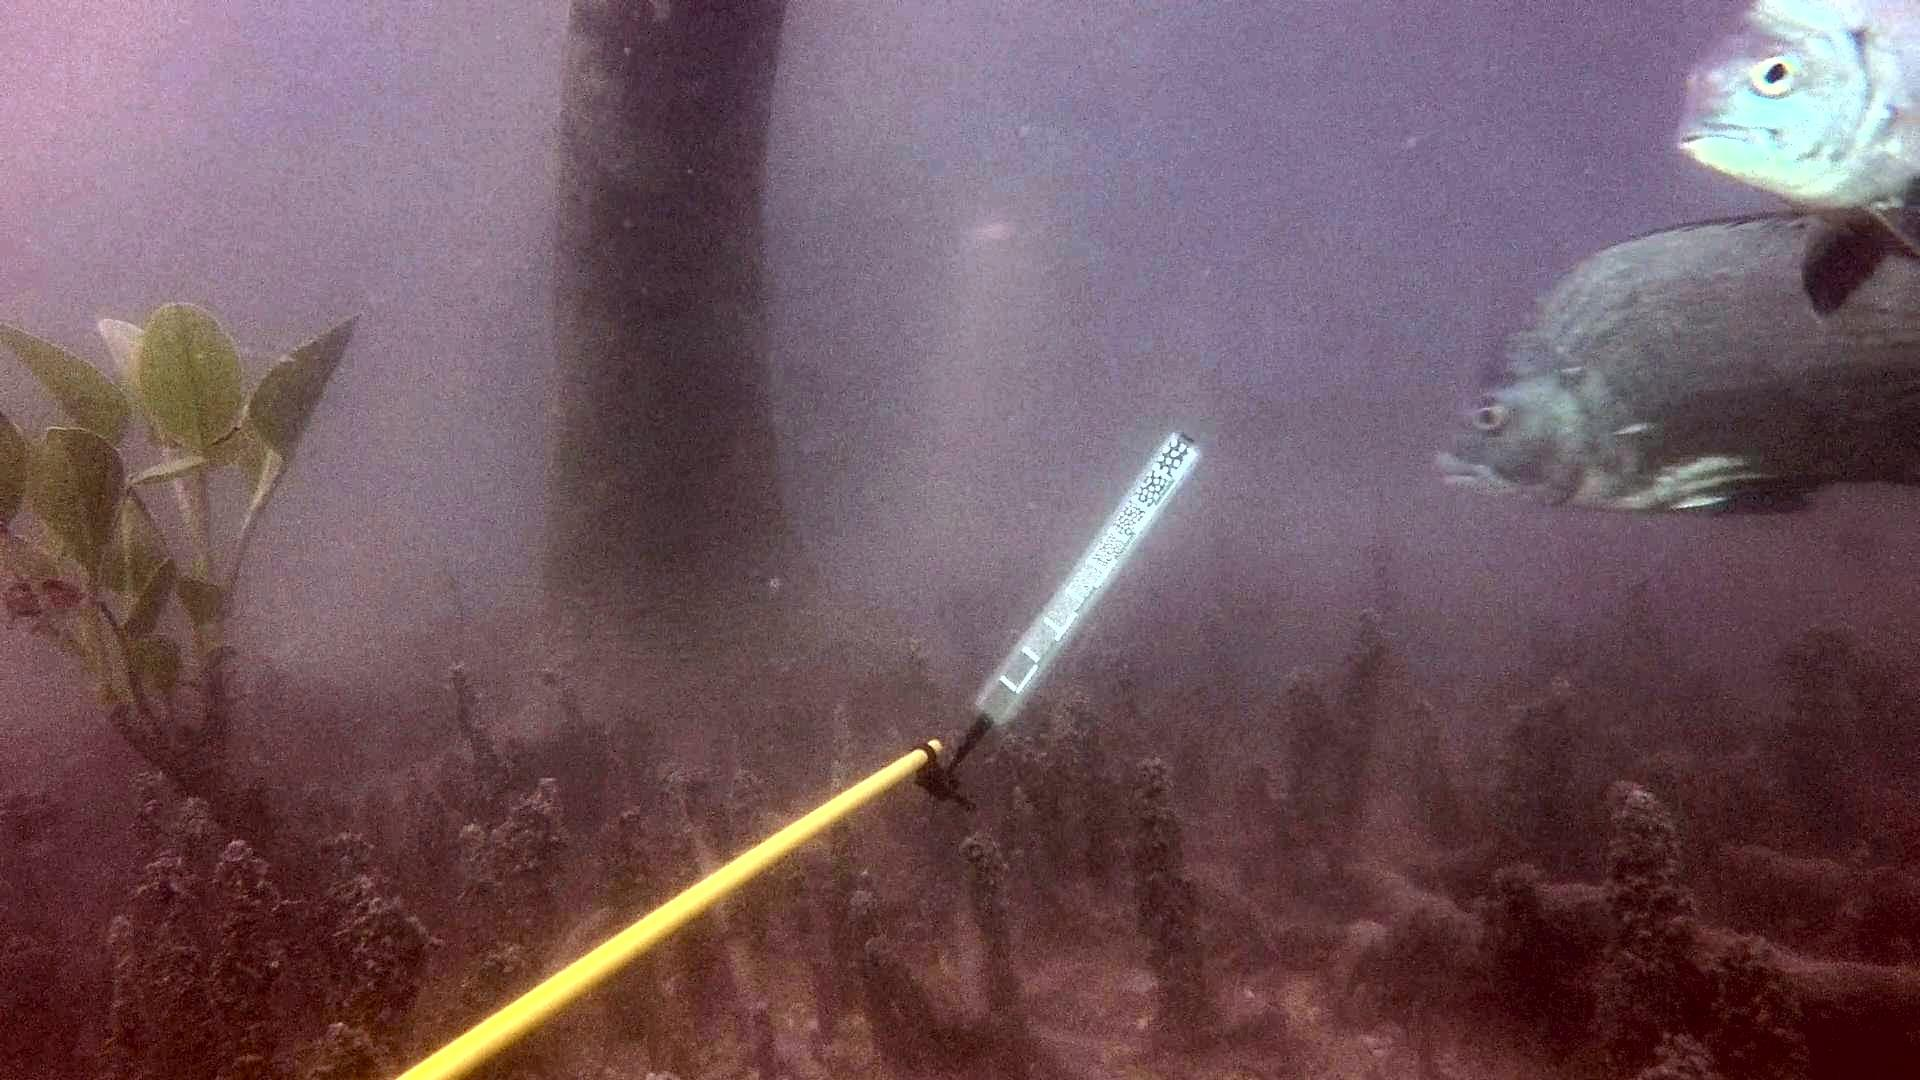acanthopagrus palmaris: (1445, 195, 1920, 530), (1658, 8, 1920, 324)
